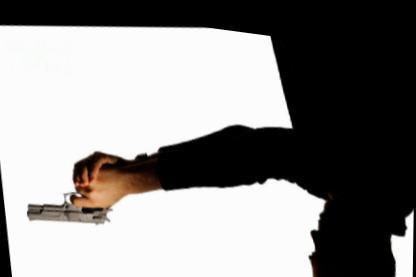pistol: (23, 176, 116, 232)
